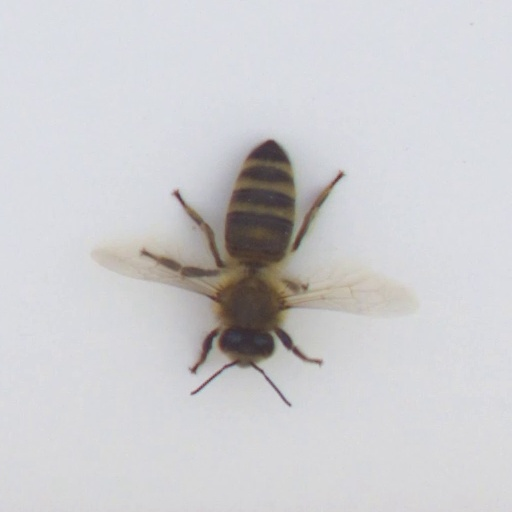Bee: (197, 123, 316, 380)
Thorax: (212, 266, 288, 329)
